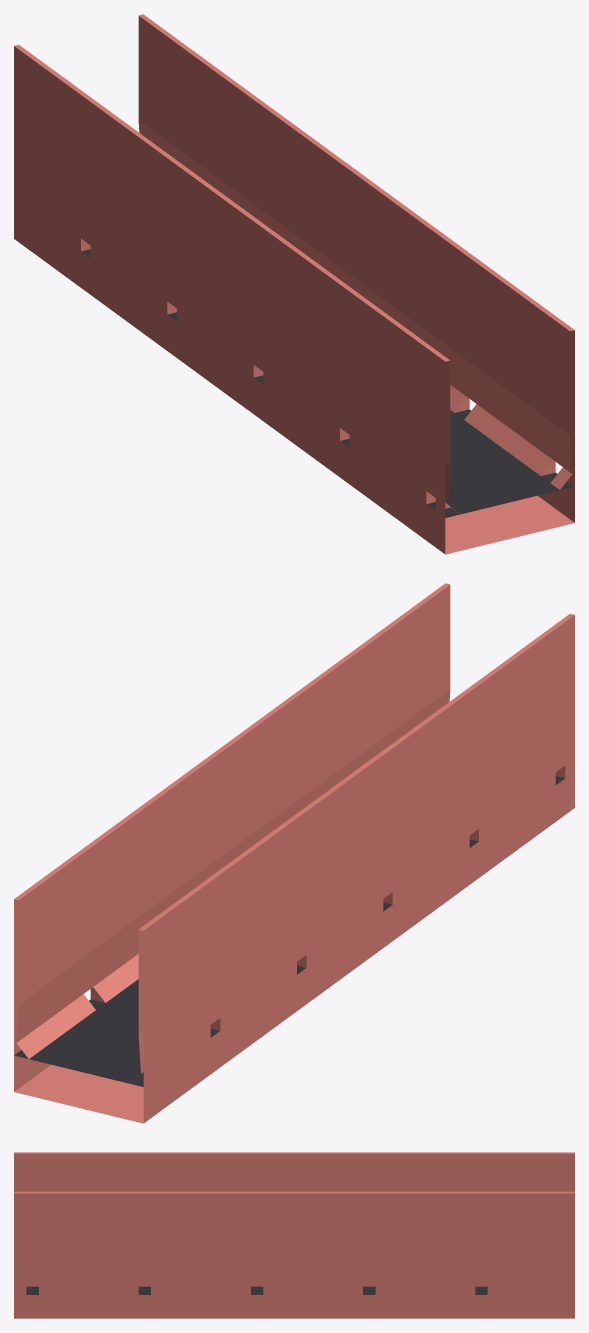
The model's file is Highway.fbx.
3 views of the same model, one above another, from view 1: azimuth 30°, elevation 25°; view 2: azimuth 150°, elevation 25°; view 3: azimuth 270°, elevation 25° (orthographic). The views are drawn at different scales.
Parts seen in each view (by area): view 1: Long Road, Long Road.001; view 2: Long Road, Long Road.001; view 3: Long Road, Long Road.001.
Boxes of the visible parts, x1,y1,x2,y2 form: Long Road: (14,14,574,554); Long Road.001: (81,249,574,517); Long Road: (14,583,574,1123); Long Road.001: (14,776,564,1086); Long Road: (14,1152,574,1318); Long Road.001: (26,1286,487,1294).
Bounding box in the file's own units: 2600 × 15000 × 3700.
